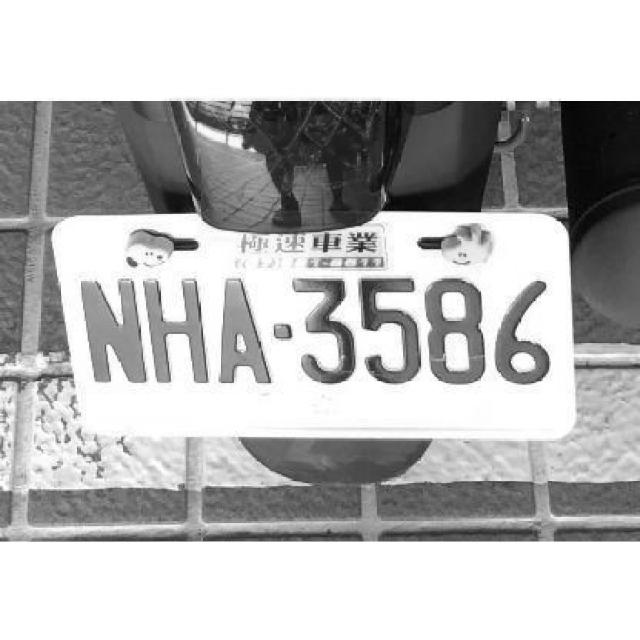-: (275, 325, 294, 340)
3: (291, 274, 354, 386)
5: (356, 274, 422, 389)
6: (492, 271, 557, 383)
8: (423, 269, 491, 385)
A: (217, 276, 275, 382)
H: (136, 267, 213, 388)
N: (71, 271, 150, 382)
